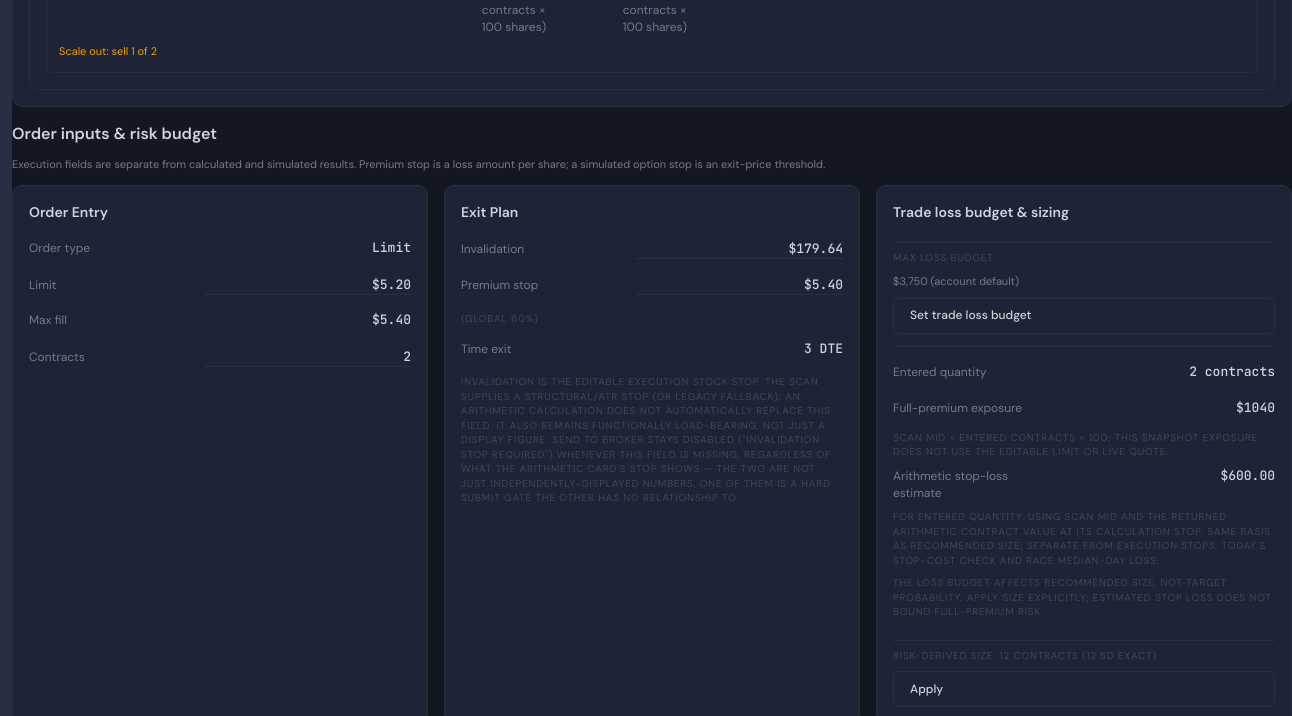
Test case: distinguishes entered quantity, recommendation, snapshot exposure and arithmetic loss and retains explicit Apply
This screenshot has width=1292, height=716.
(page scrolled)
Expected: the text "Entered quantity" is shown, [893, 364, 986, 380]
Expected: the text "$1040" is shown, [1236, 399, 1275, 416]
Click the button named "Edit Contracts": [308, 356] box [205, 345, 411, 367]
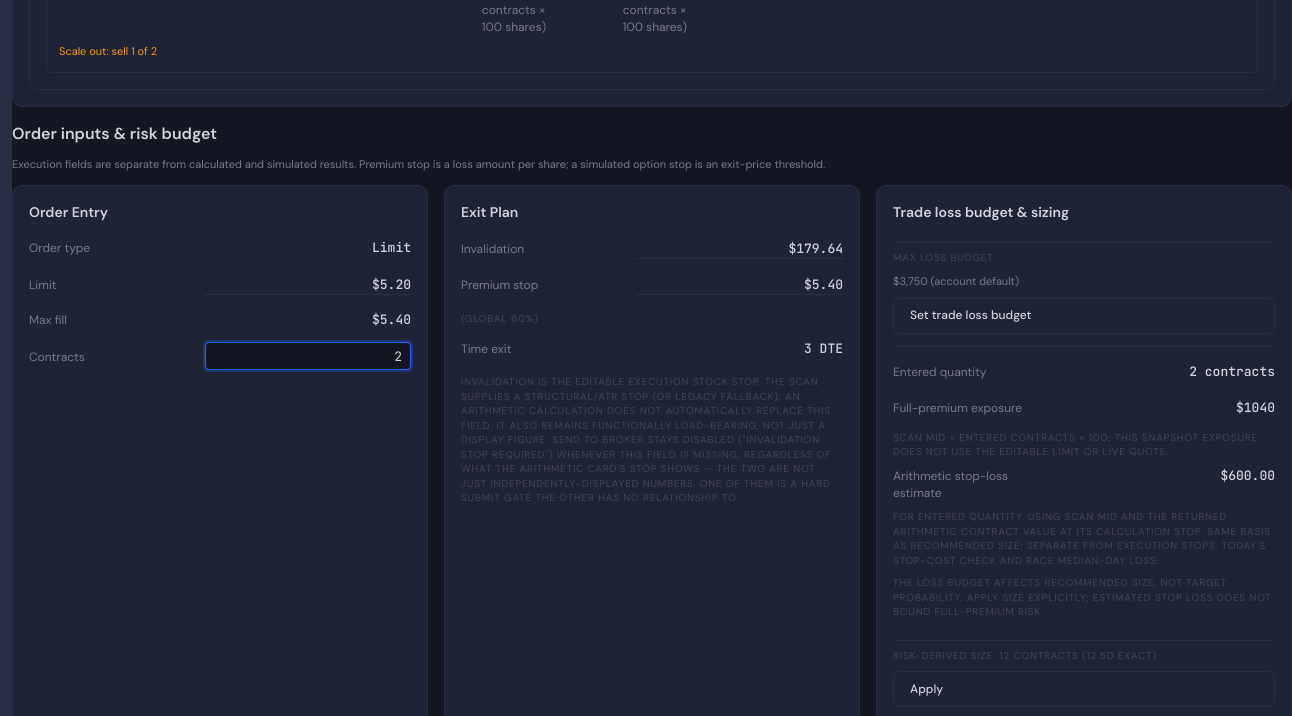
Replace the text in the field named "Edit Contracts" with "3": [308, 356] box [205, 342, 411, 370]
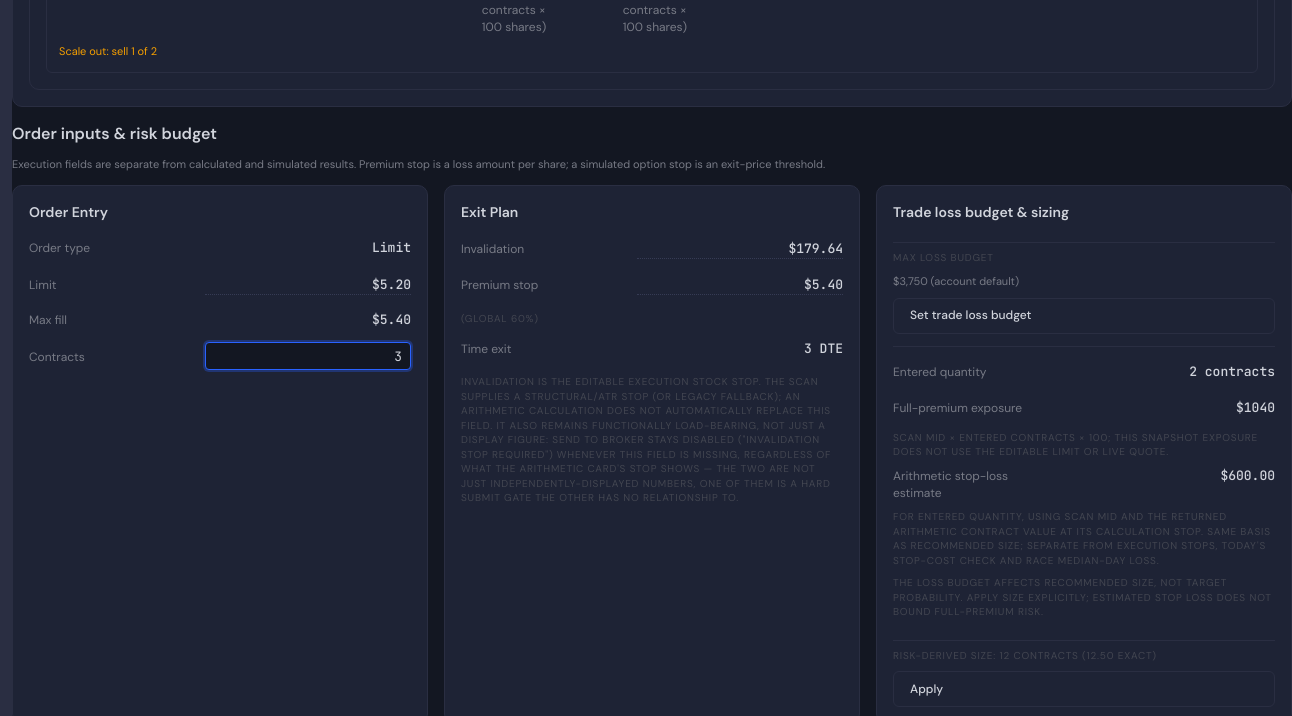
Leave the field named "Edit Contracts", box [205, 342, 411, 370]
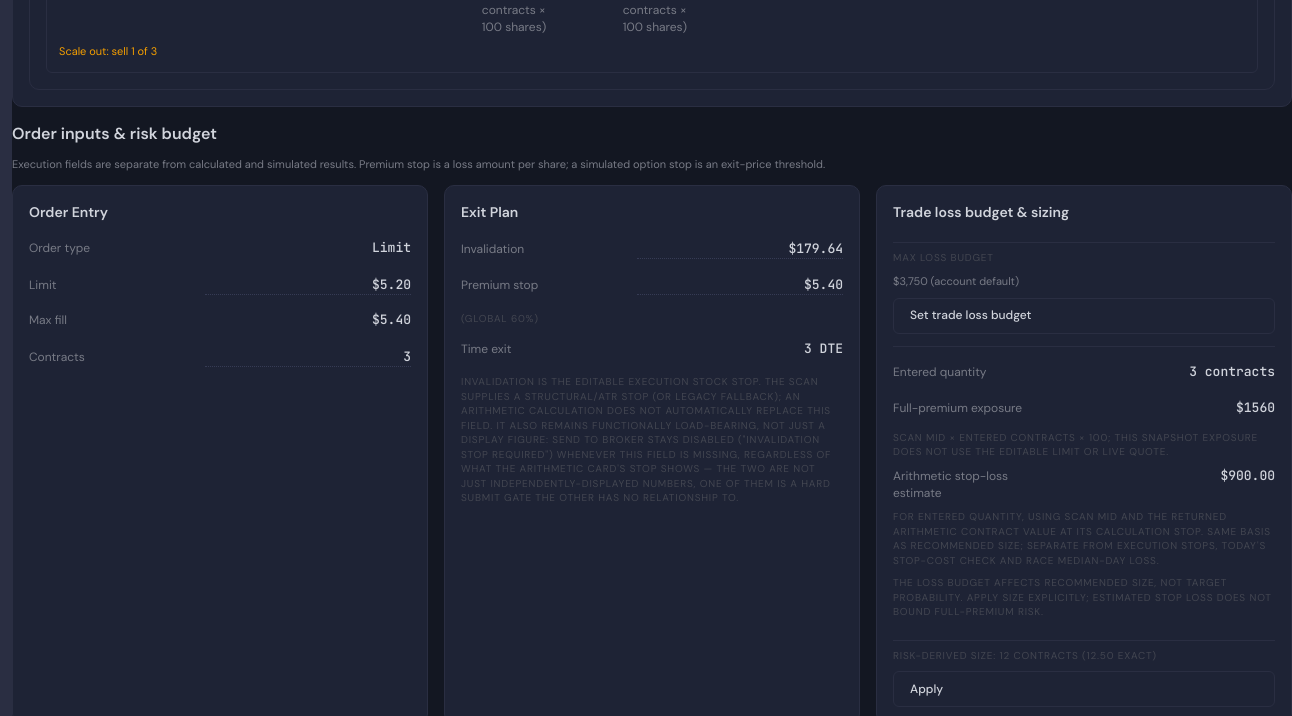
Expected: the text "Risk-derived size: 12 contracts (12.50 exact)" is shown, [893, 649, 1157, 662]
Expected: the text "$1560" is shown, [1236, 399, 1275, 416]
Expected: the text "$900.00" is shown, [1220, 467, 1275, 484]
Click the button with aria-label "Apply recommended contract size": [927, 689] box [893, 672, 1275, 708]
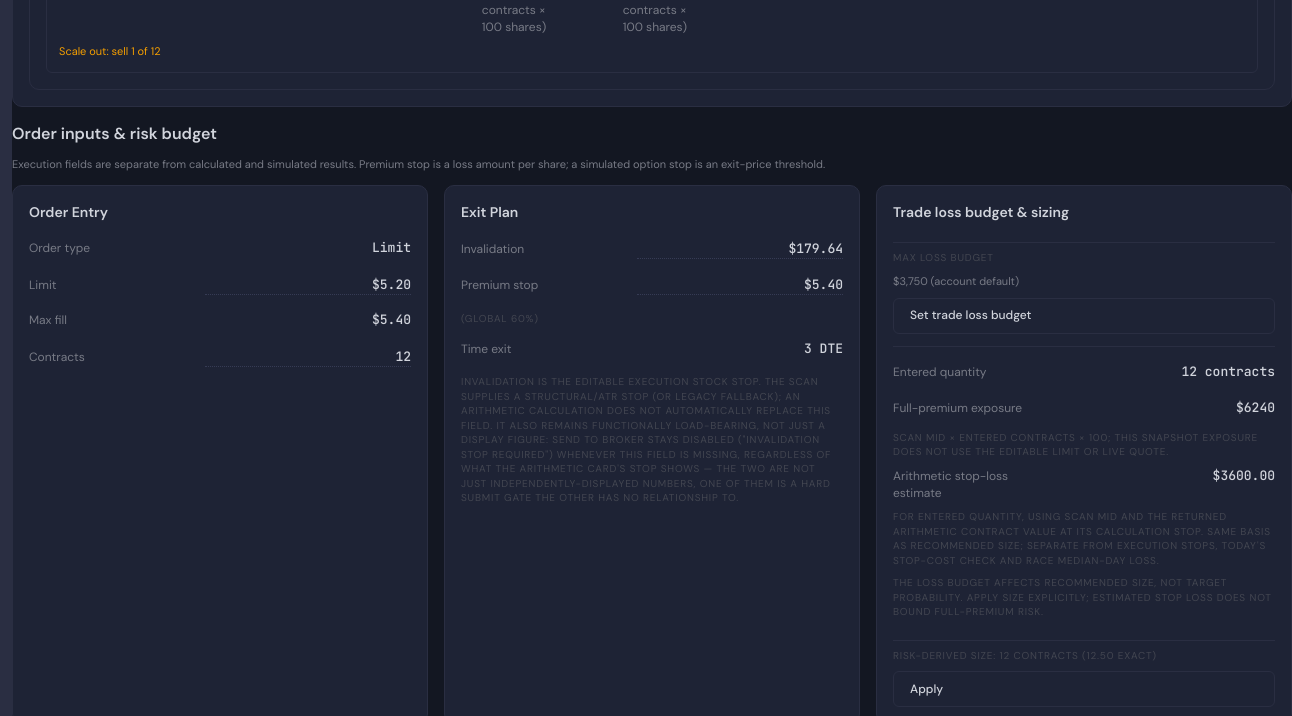
Expected: the button named "Edit Contracts" reads "12", [205, 345, 411, 367]
